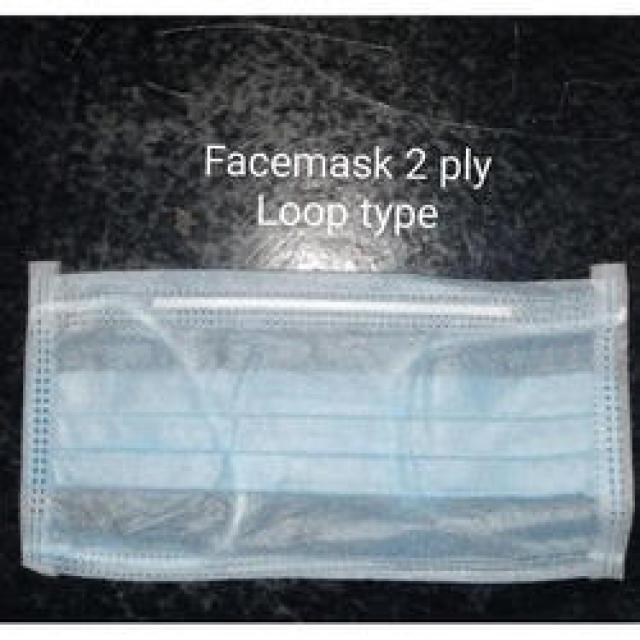non-organic waste: (23, 266, 620, 594)
